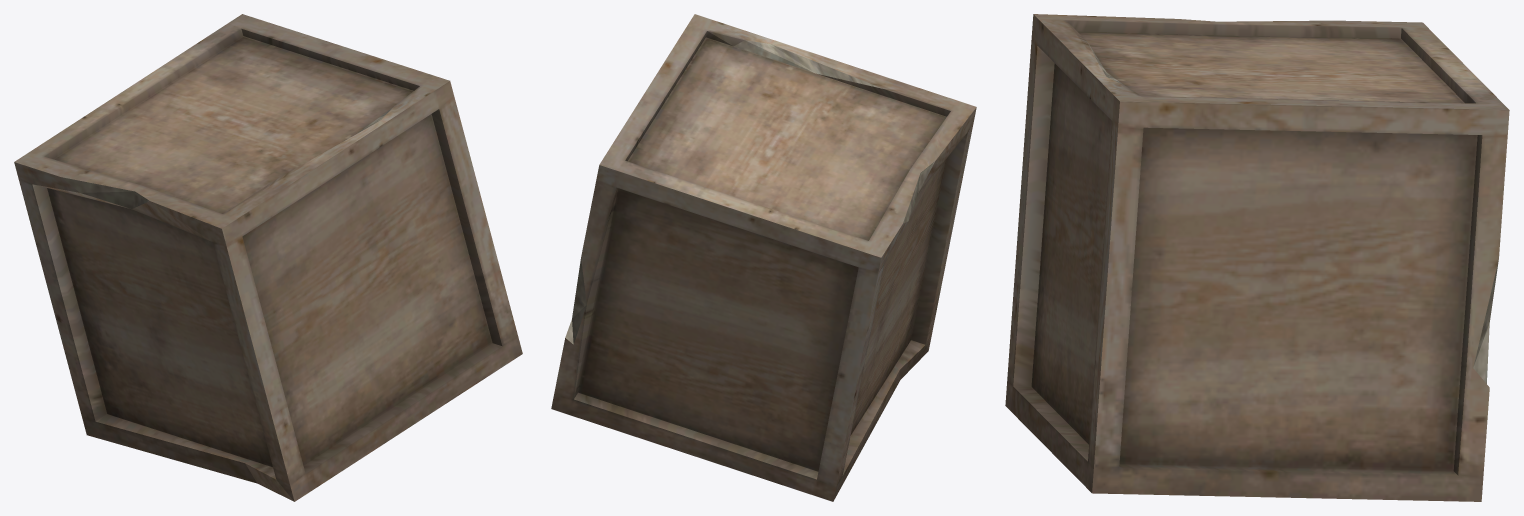
Rendered from ItemSpot.fbx.
3 views of the same model, side by side, from view 1: azimuth 30°, elevation 25°; view 2: azimuth 150°, elevation 25°; view 3: azimuth 270°, elevation 25° (orthographic). The views are drawn at different scales.
Parts seen in each view (by area): view 1: ItemBox_Box_01; view 2: ItemBox_Box_01; view 3: ItemBox_Box_01.
Boxes of the visible parts, x1=… form: ItemBox_Box_01: x1=14, y1=14, x2=522, y2=501; ItemBox_Box_01: x1=551, y1=14, x2=976, y2=501; ItemBox_Box_01: x1=1005, y1=14, x2=1509, y2=501.
Size of the model in its own units: 1.08 by 1.01 by 0.9863.
1 material, 1 textured.
